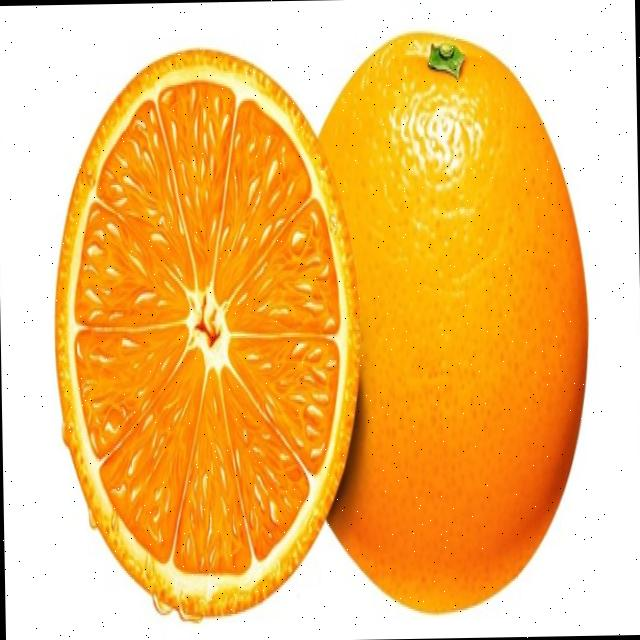Jeruk: (48, 42, 365, 624), (312, 28, 593, 616)
